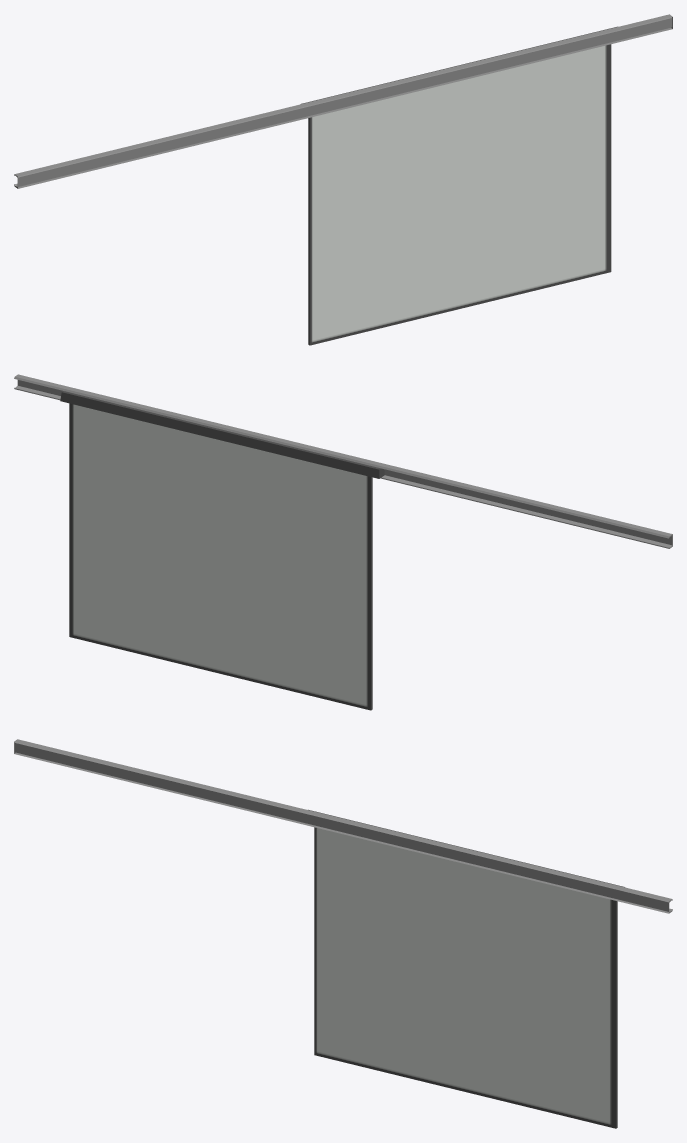
Rendered from Projector_Screen.FBX.
The picture shows the model from 3 angles, top to bottom: view 1: azimuth 30°, elevation 25°; view 2: azimuth 150°, elevation 25°; view 3: azimuth 330°, elevation 25°; orthographic projection.
Parts seen in each view (by area): view 1: Box099, Box49; view 2: Box099, Box49; view 3: Box099, Box49.
Part boxes in pixels (x1,y1,x2,y2): Box099: (301,26,617,345); Box49: (14,14,672,188); Box099: (60,391,384,710); Box49: (14,374,672,548); Box099: (308,809,624,1128); Box49: (14,739,672,913).
Size of the model in its own units: 126 by 44.78 by 2.06.
